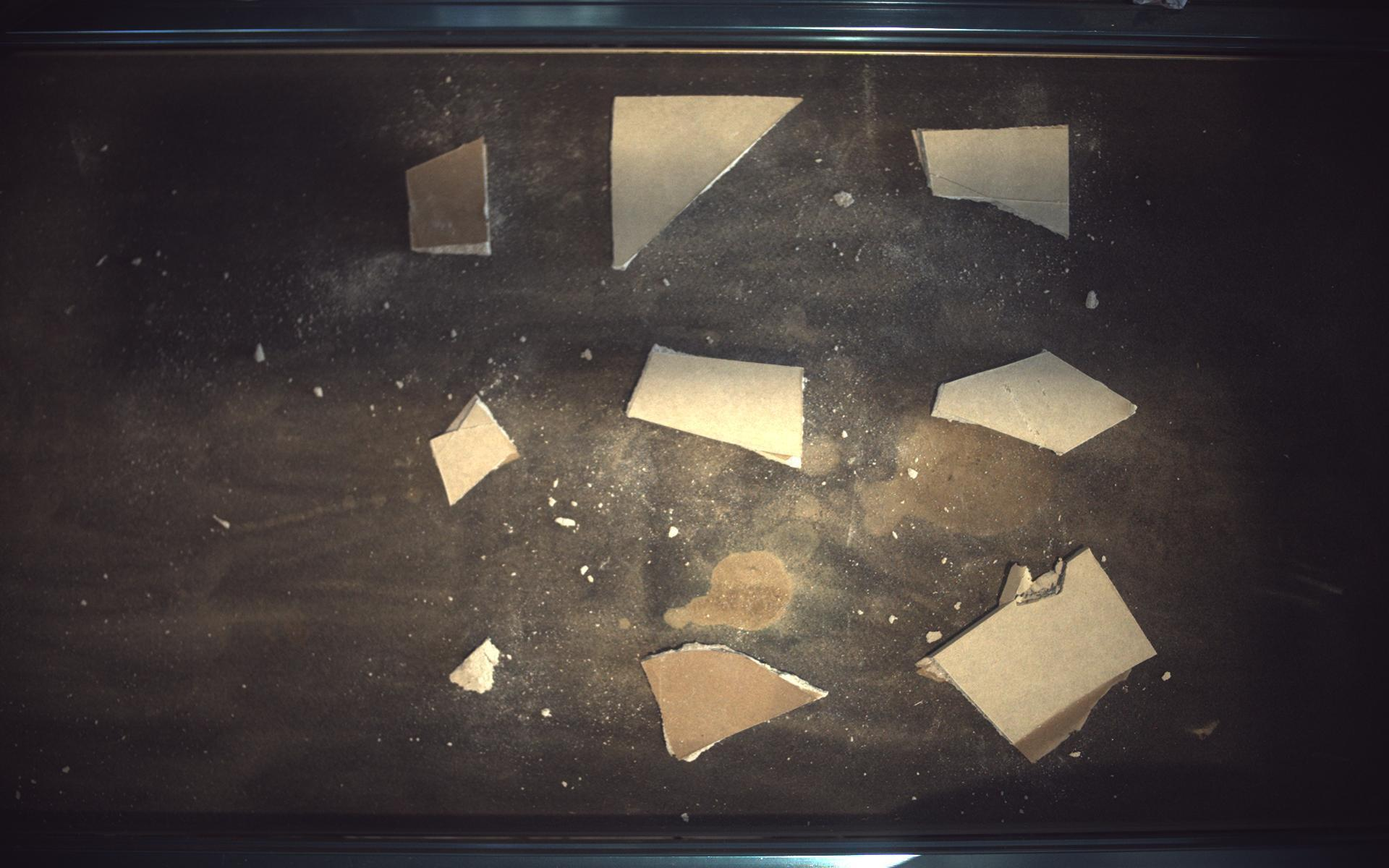gypsum_board: (918, 548, 1159, 764), (611, 94, 803, 269), (642, 644, 829, 763), (627, 345, 806, 468), (935, 350, 1139, 455), (914, 124, 1071, 237), (406, 136, 491, 255), (430, 395, 519, 506), (449, 640, 501, 694)
